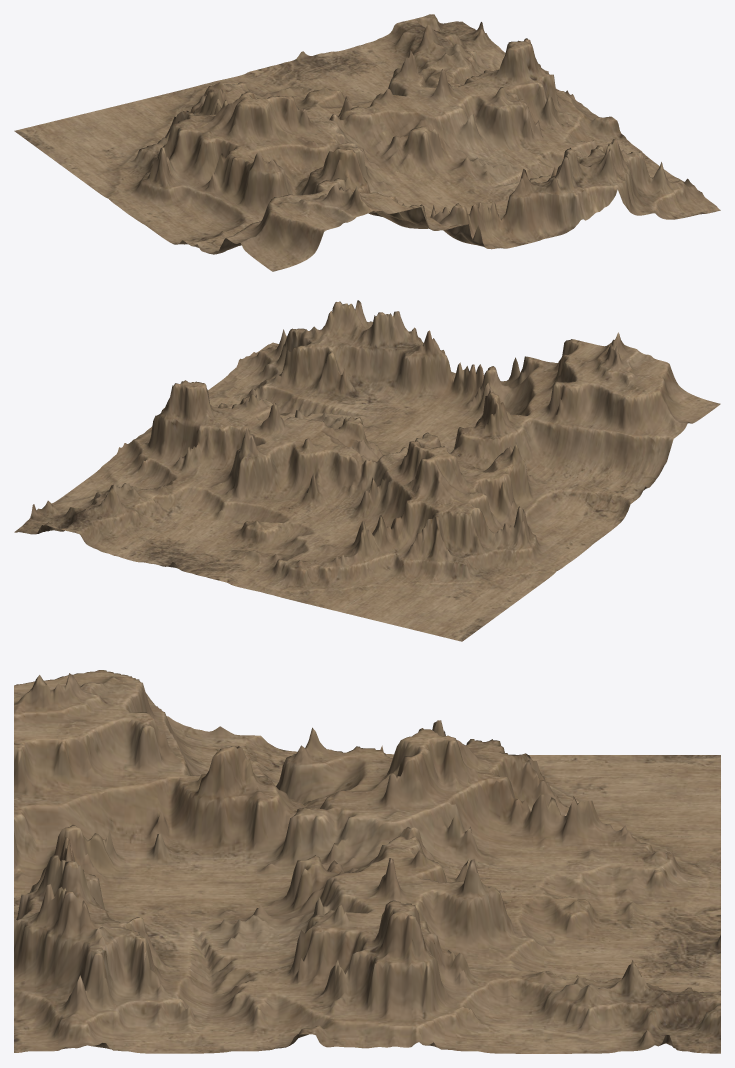
Rendered from Terrain_Optimized.glb.
3 views of the same model, one above another, from view 1: azimuth 30°, elevation 25°; view 2: azimuth 150°, elevation 25°; view 3: azimuth 270°, elevation 25° (orthographic). The views are drawn at different scales.
Parts seen in each view (by area): view 1: Terrain optimized; view 2: Terrain optimized; view 3: Terrain optimized.
Boxes of the visible parts, x1,y1,x2,y2 form: Terrain optimized: (14,14,720,271); Terrain optimized: (14,300,720,641); Terrain optimized: (14,670,720,1053).
Bounding box in the file's own units: 1 × 0.2228 × 1.
Materials: 1 (1 with a texture image).
